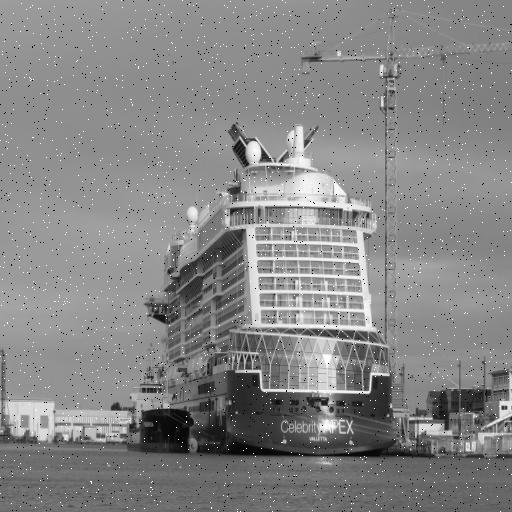cruises: (156, 130, 399, 457)
